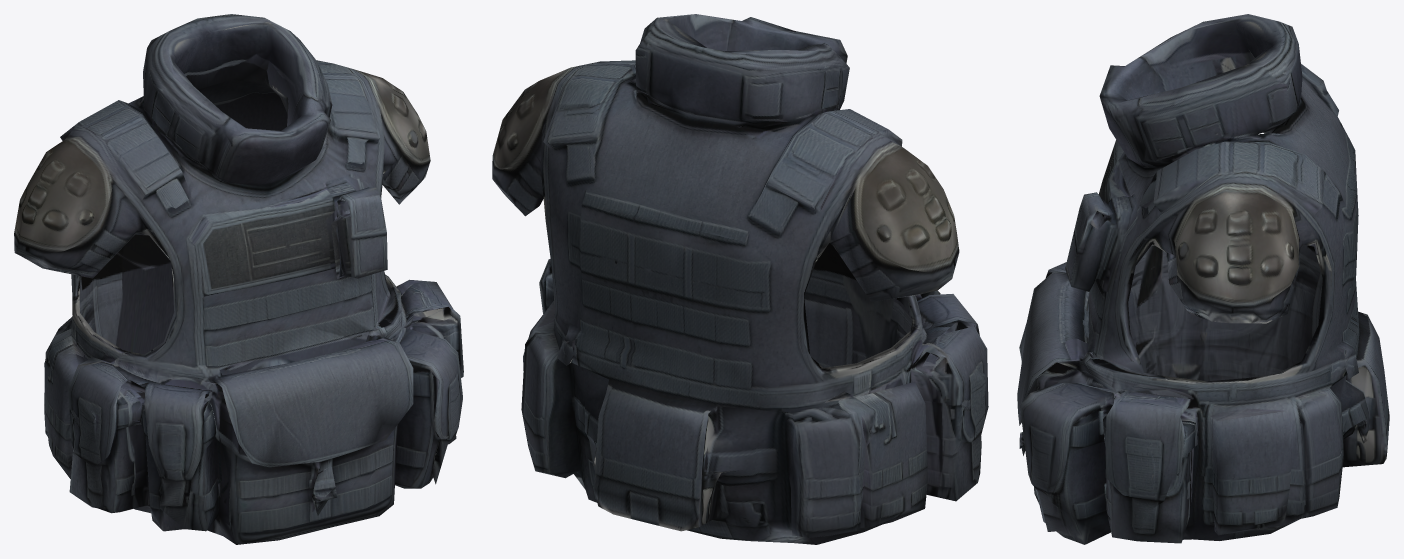
File: Tactical Body Armor.fbx
The picture shows the model from 3 angles, left to right: view 1: azimuth 30°, elevation 25°; view 2: azimuth 150°, elevation 25°; view 3: azimuth 270°, elevation 25°; orthographic projection. The views are drawn at different scales.
Parts seen in each view (by area): view 1: texture_mapping; view 2: texture_mapping; view 3: texture_mapping.
Boxes of the visible parts, box(x1,y1,x2,y2) form: texture_mapping: box(14, 14, 463, 544); texture_mapping: box(492, 14, 988, 544); texture_mapping: box(1017, 14, 1389, 544).
Size of the model in its own units: 0.9874 by 0.7518 by 1.01.
Materials: 1 (1 with a texture image).
